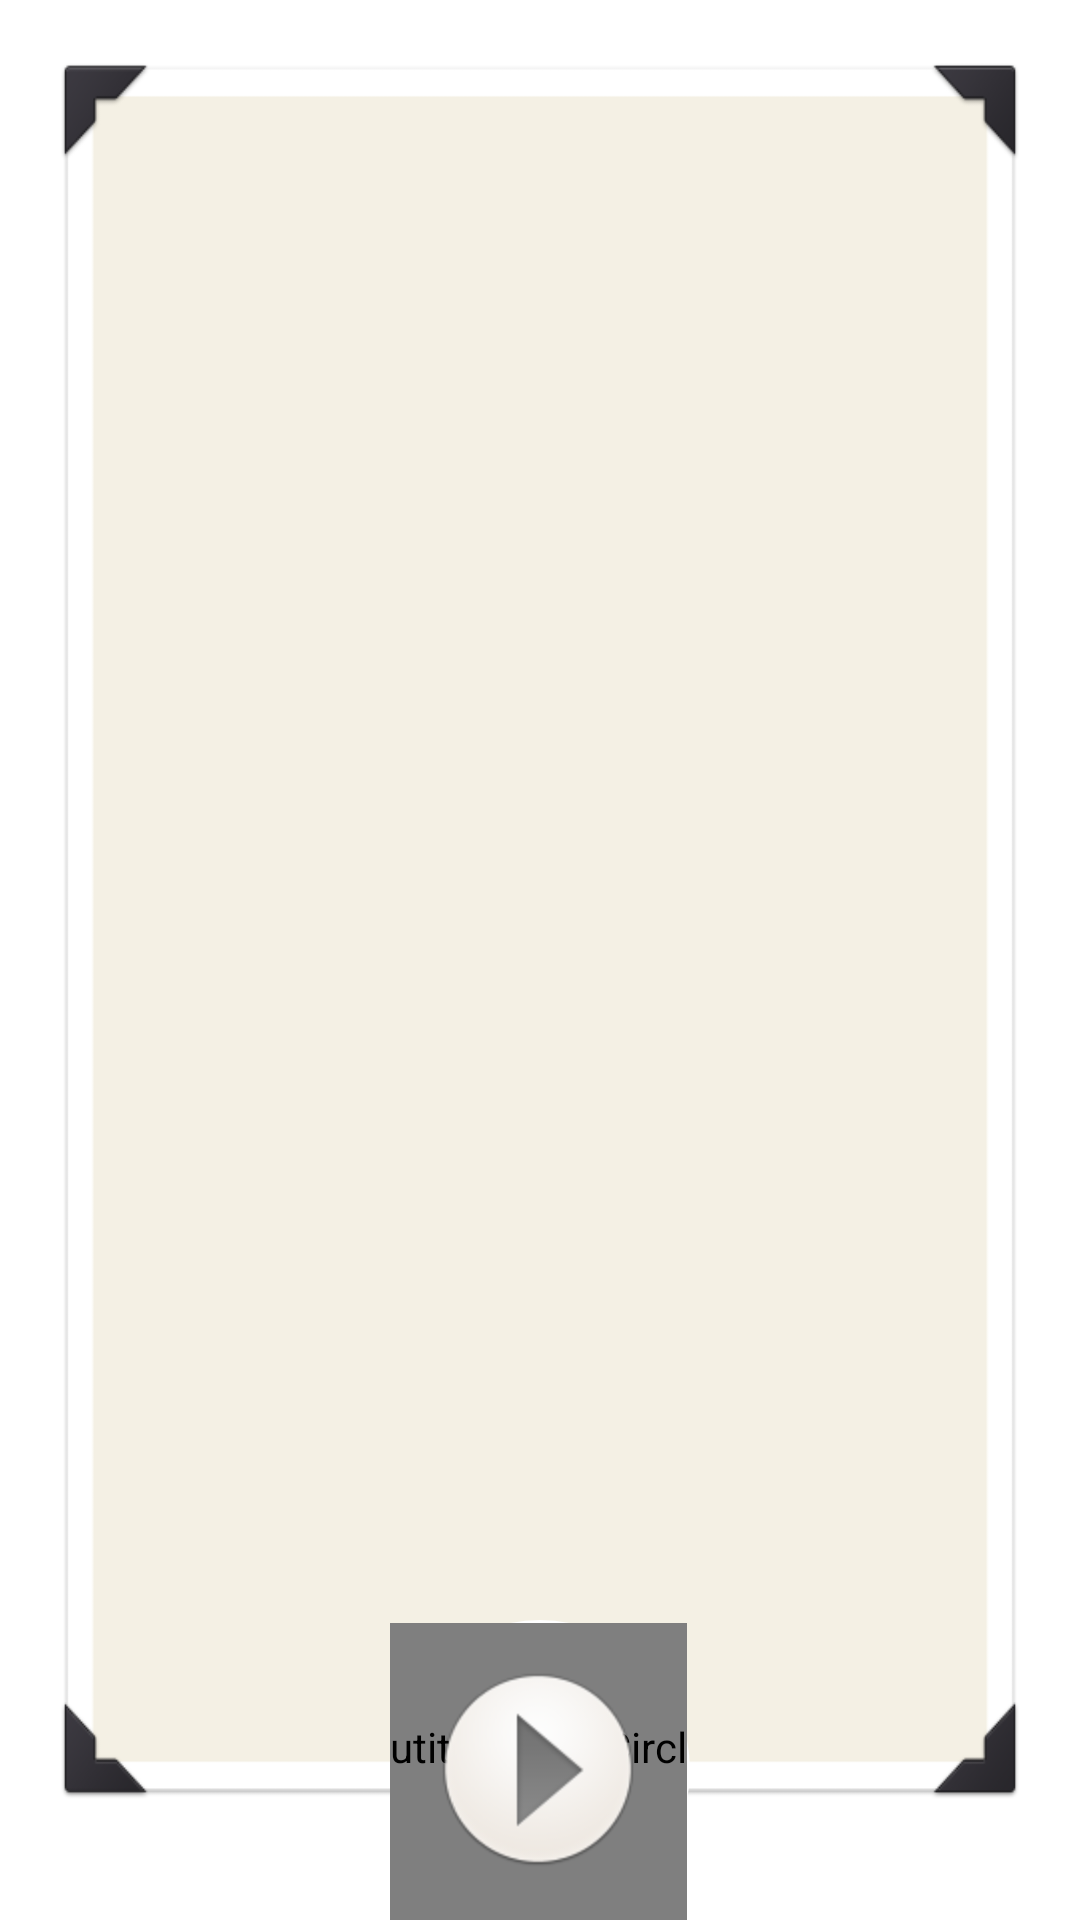

Icon click points for this 1080 x 1920 phone screenshot, format (x,y):
play: (538,1770)
